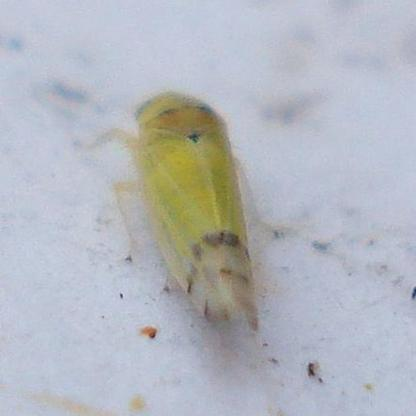green-leafhopper: (127, 92, 264, 332)
